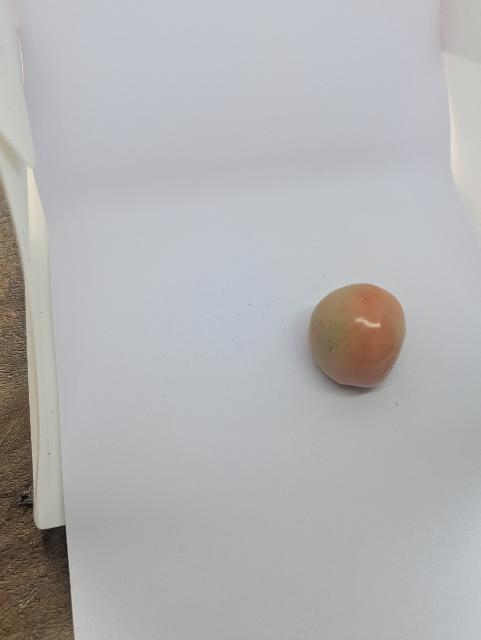turning: (305, 280, 422, 396)
